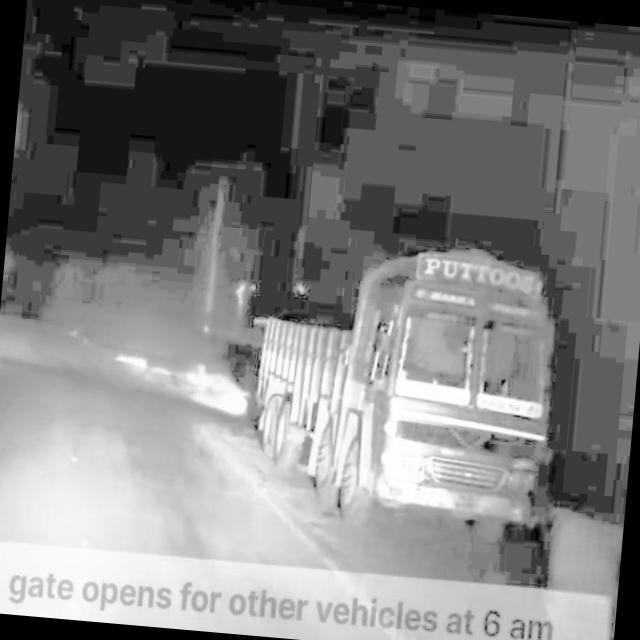Truck: (234, 230, 572, 544)
